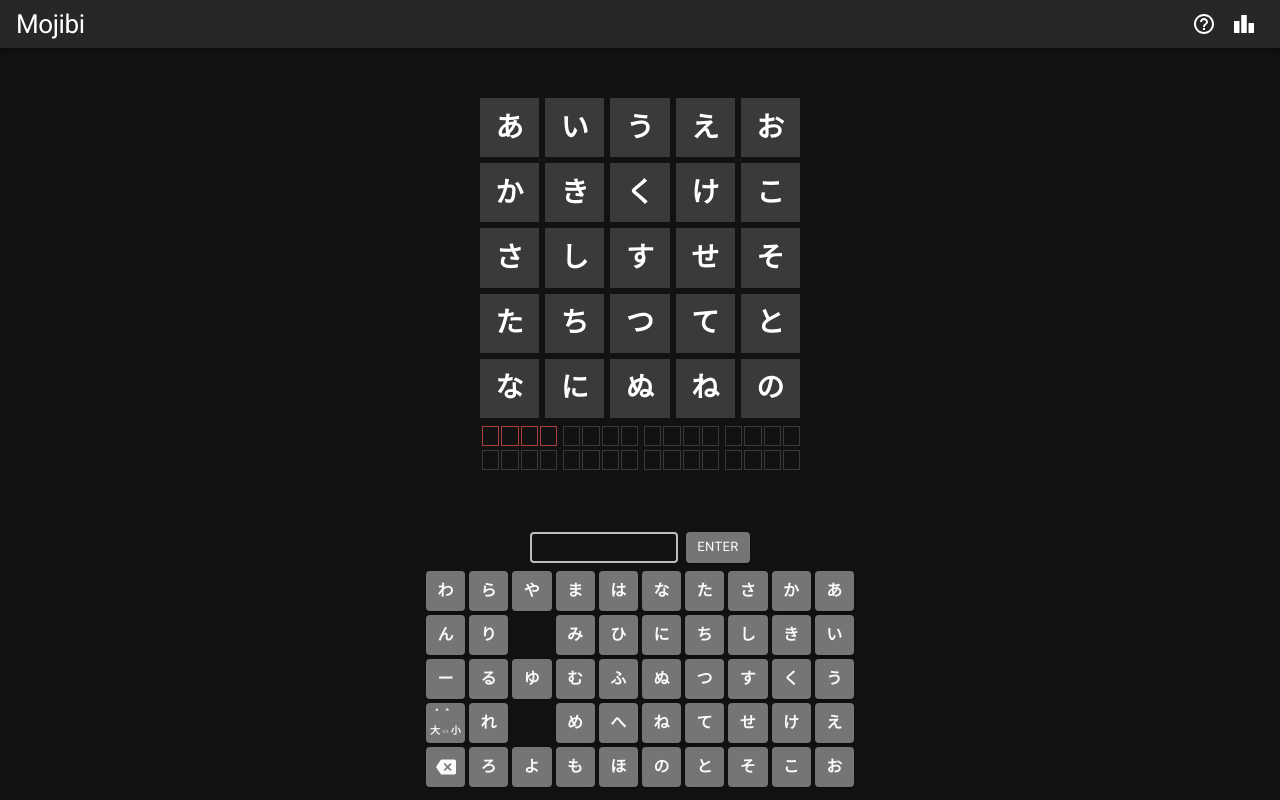
Test case: App component › Game › Keyboard › On-Screen Keyboard › When you click あい, then click the backspace button › should render あ in input box
What coordinates should you click on to do the following:
click the button "あ"
I would click on:
 (834, 591)
Its box is [815,571,854,611].
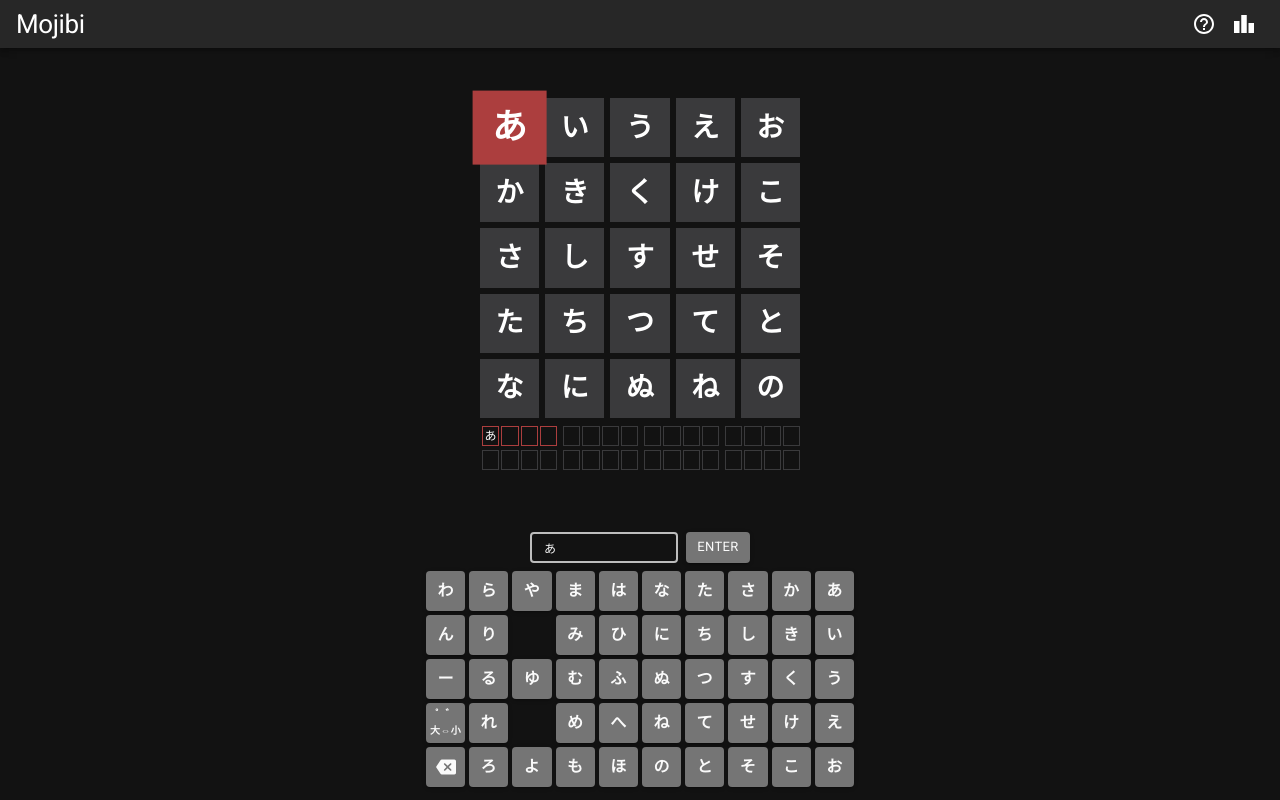
What coordinates should you click on to do the following:
click the button "い"
I would click on:
 (834, 635)
Its box is [815,615,854,655].
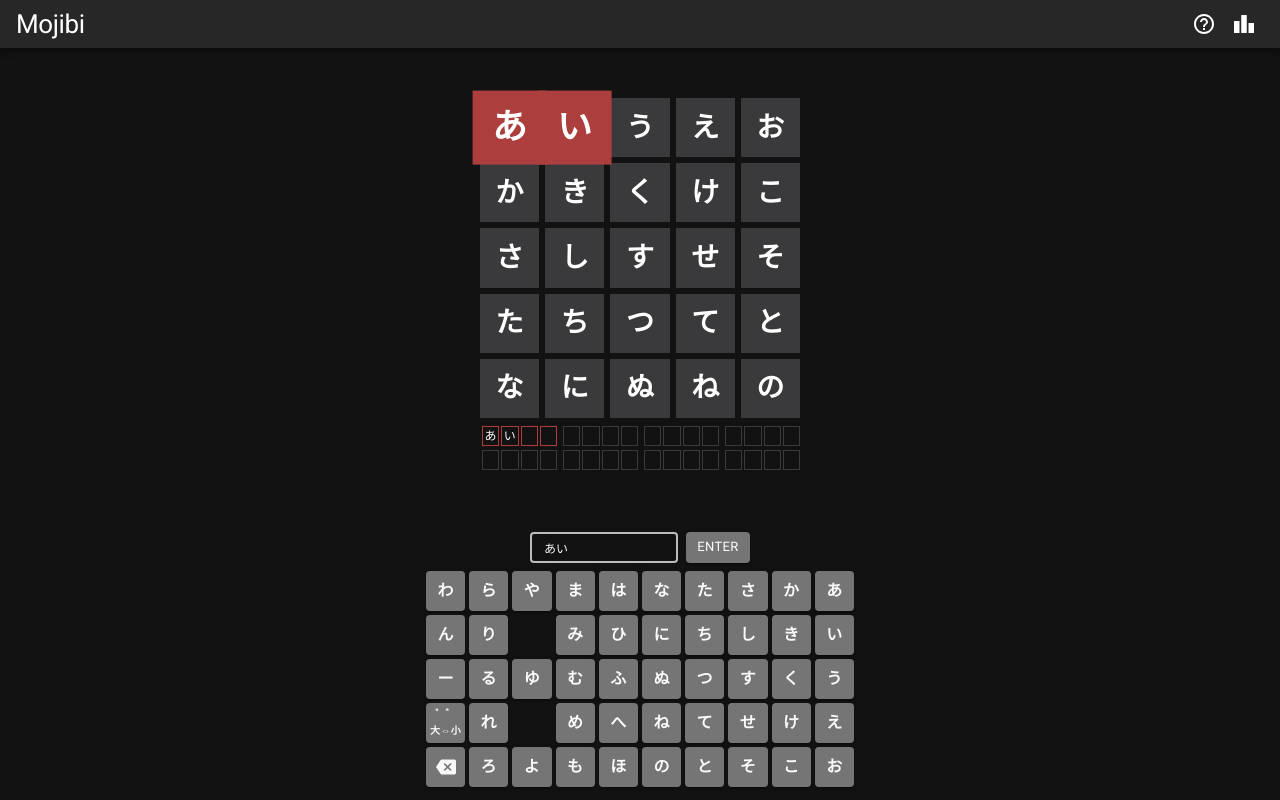
What coordinates should you click on to do the following:
click the button with test id "delete-key"
I would click on:
 (446, 767)
Its box is [426,747,465,787].
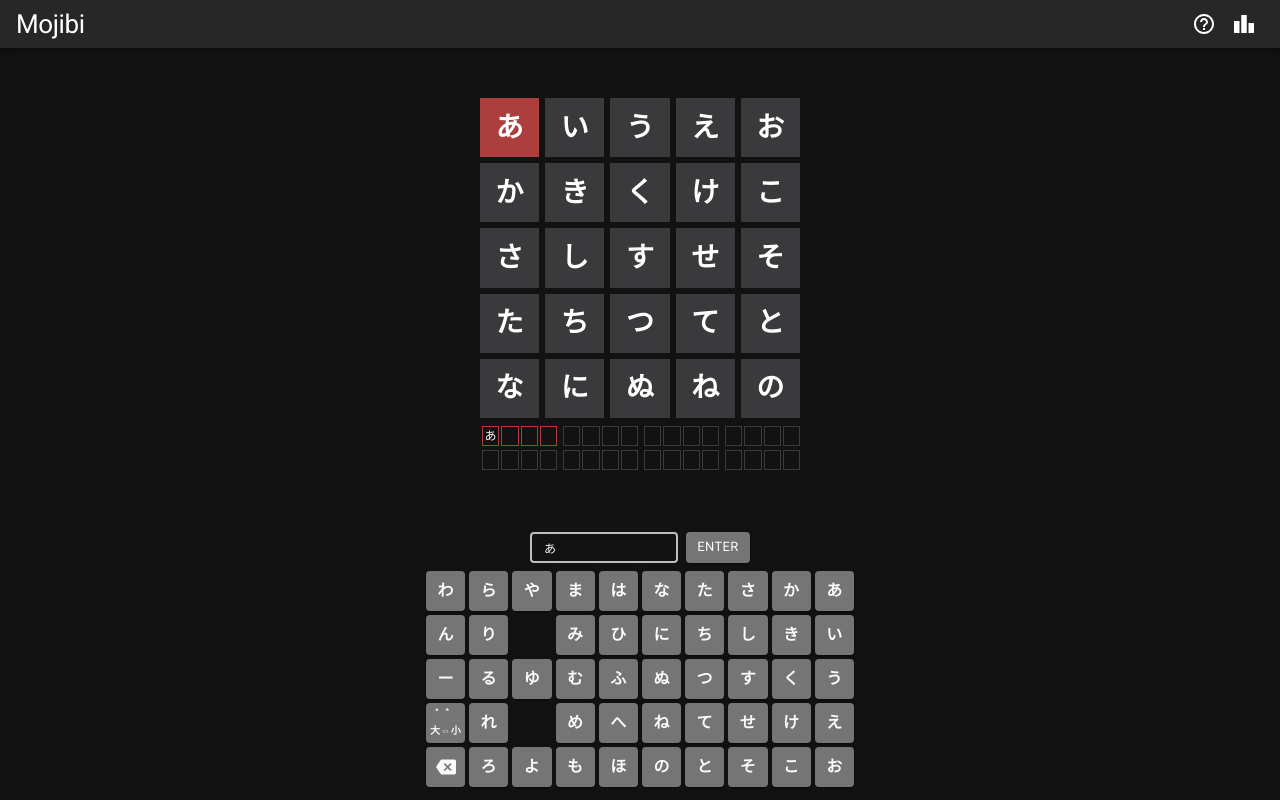
Expected: the field with test id "key-input" holds "あ", [530,532,678,563]
